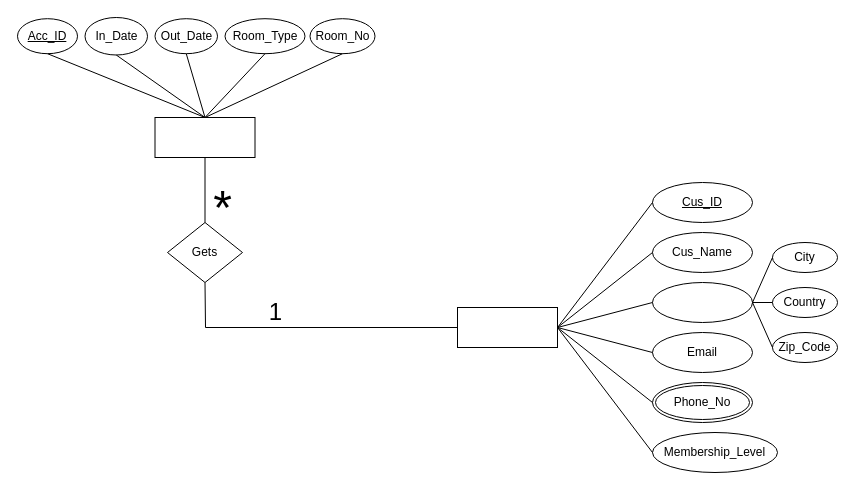
Some shapes in this 855 by 490 pixel diagram are drawn without their labels. Each missing label, with the centre of its shape:
Accomodation: [204,137]
Address: [702,302]
Customer: [507,327]
